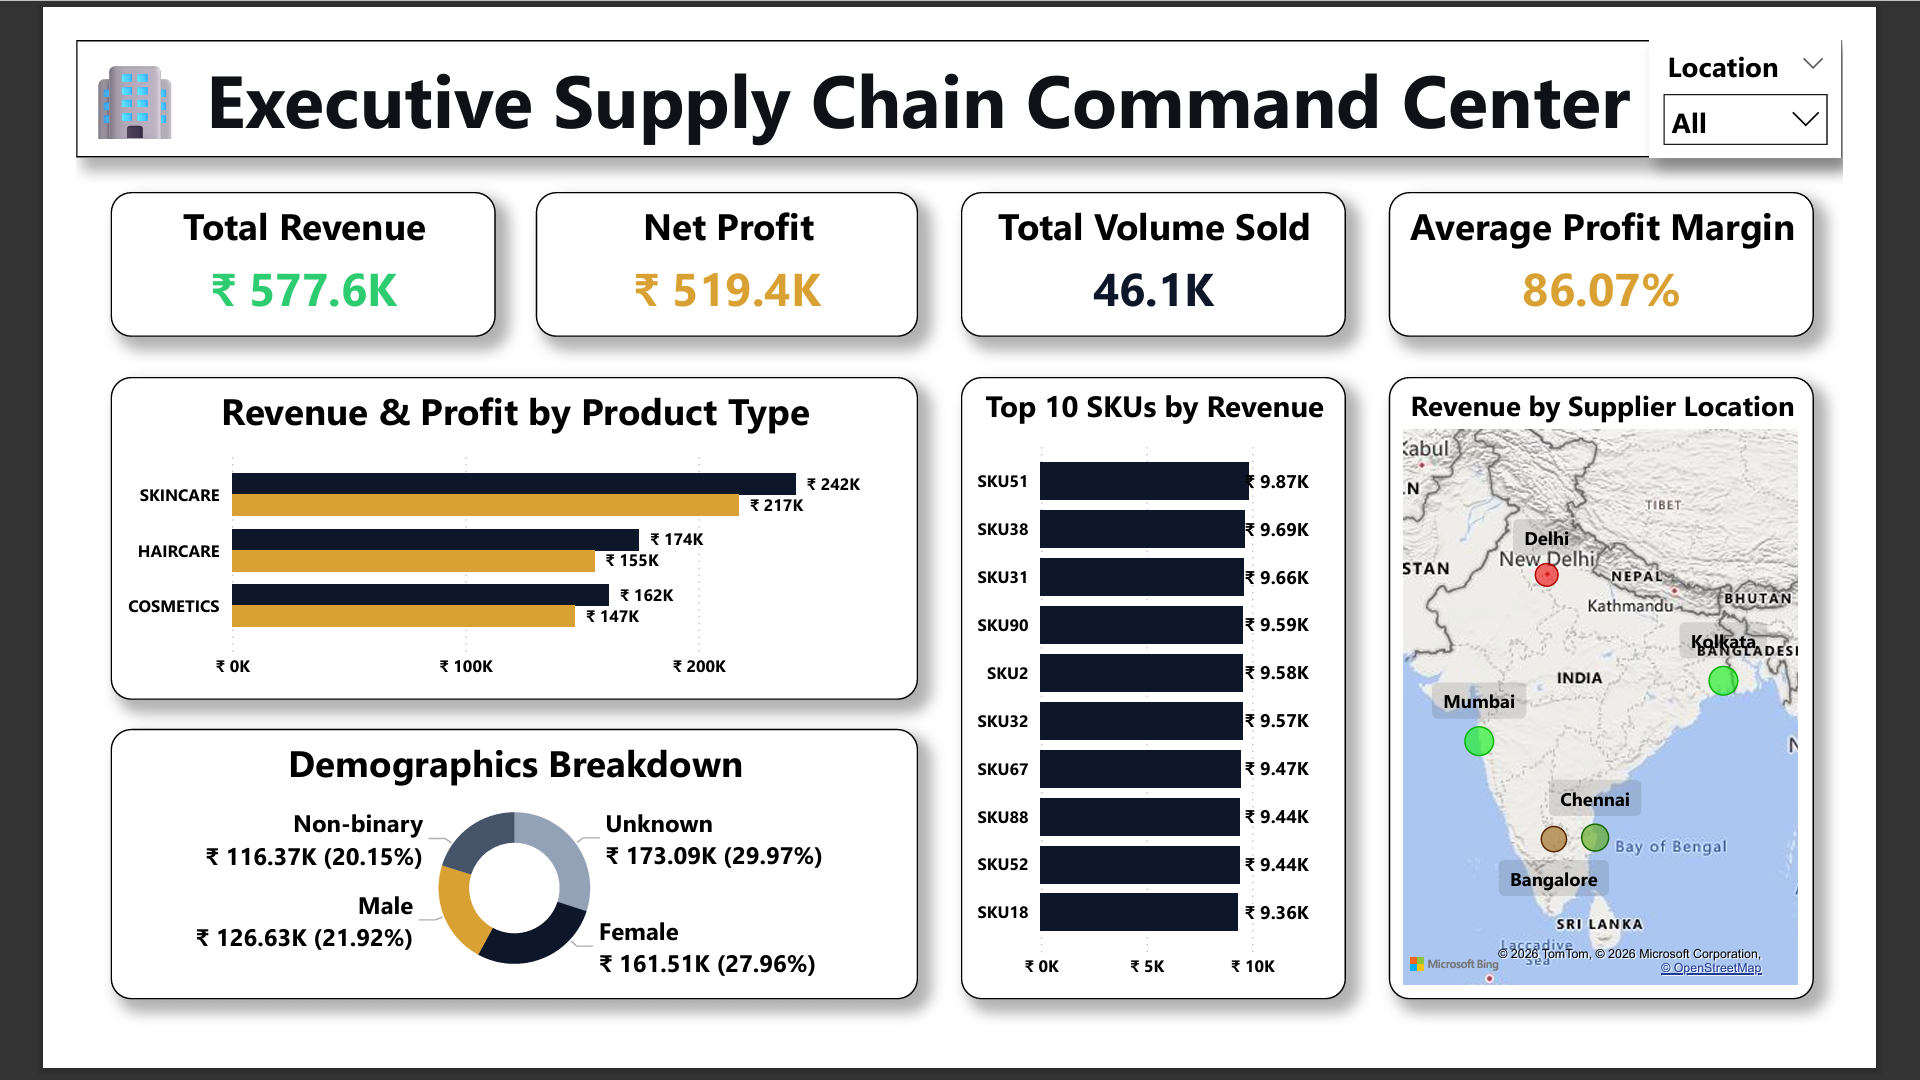

What the dashboard file says about the page in this screenshot:
{"tool":"powerbi","page":{"name":"Executive Financial & Sales Overview","canvas":[1280,720],"ordinal":0},"visuals":[{"type":"card","title":"Total Revenue","fields":{"Values":["Sum(Table.Revenue generated)"]},"box":[24.6,109.6,279.7,105.8],"z":0},{"type":"card","title":"Net Profit","fields":{"Values":["Sum(Table.Net_Profit)"]},"box":[332.6,109.6,277.8,105.8],"z":1000},{"type":"card","title":"Total Volume Sold","fields":{"Values":["Sum(Table.Number of products sold)"]},"box":[640.6,109.6,279.7,105.8],"z":2000},{"type":"card","title":"Average Profit Margin","fields":{"Values":["Avg(Table.Profit_Margin %)"]},"box":[950.6,109.6,308,105.8],"z":3000},{"type":"clusteredBarChart","title":"Revenue & Profit by Product Type","fields":{"Category":["Table.Product type"],"Y":["Sum(Table.Revenue generated)","Sum(Table.Net_Profit)"]},"box":[24.6,243.8,585.8,234.3],"z":4000},{"type":"donutChart","title":"Demographics Breakdown","fields":{"Category":["Table.Customer demographics"],"Y":["Sum(Table.Revenue generated)"]},"box":[24.6,498.9,585.8,196.5],"z":5000},{"type":"clusteredBarChart","title":"Top 10 SKUs by Revenue","fields":{"Category":["Table.SKU"],"Y":["Sum(Table.Revenue generated)"]},"box":[640.6,243.8,279.7,451.7],"z":6000},{"type":"map","title":"Revenue by Supplier Location","fields":{"Category":["Table.Location"],"Size":["Sum(Table.Revenue generated)"]},"box":[950.6,243.8,308,451.7],"z":7000},{"type":"textbox","box":[0,0,1279.4,85],"z":8000},{"type":"slicer","fields":{"Values":["Table.Location"]},"box":[1139.5,0,139.8,85],"z":9000}]}

Visuals, with their boxes in screenshot pixels (x1, y1, x2, y2), scaled from the page's 1280x720 canvas onto the 1920x1080 screenshot:
"Total Revenue" card: box=[37, 164, 456, 323]
"Net Profit" card: box=[499, 164, 916, 323]
"Total Volume Sold" card: box=[961, 164, 1380, 323]
"Average Profit Margin" card: box=[1426, 164, 1888, 323]
"Revenue & Profit by Product Type" clusteredBarChart: box=[37, 366, 916, 717]
"Demographics Breakdown" donutChart: box=[37, 748, 916, 1043]
"Top 10 SKUs by Revenue" clusteredBarChart: box=[961, 366, 1380, 1043]
"Revenue by Supplier Location" map: box=[1426, 366, 1888, 1043]
textbox: box=[0, 0, 1919, 128]
slicer - Table.Location: box=[1709, 0, 1919, 128]
